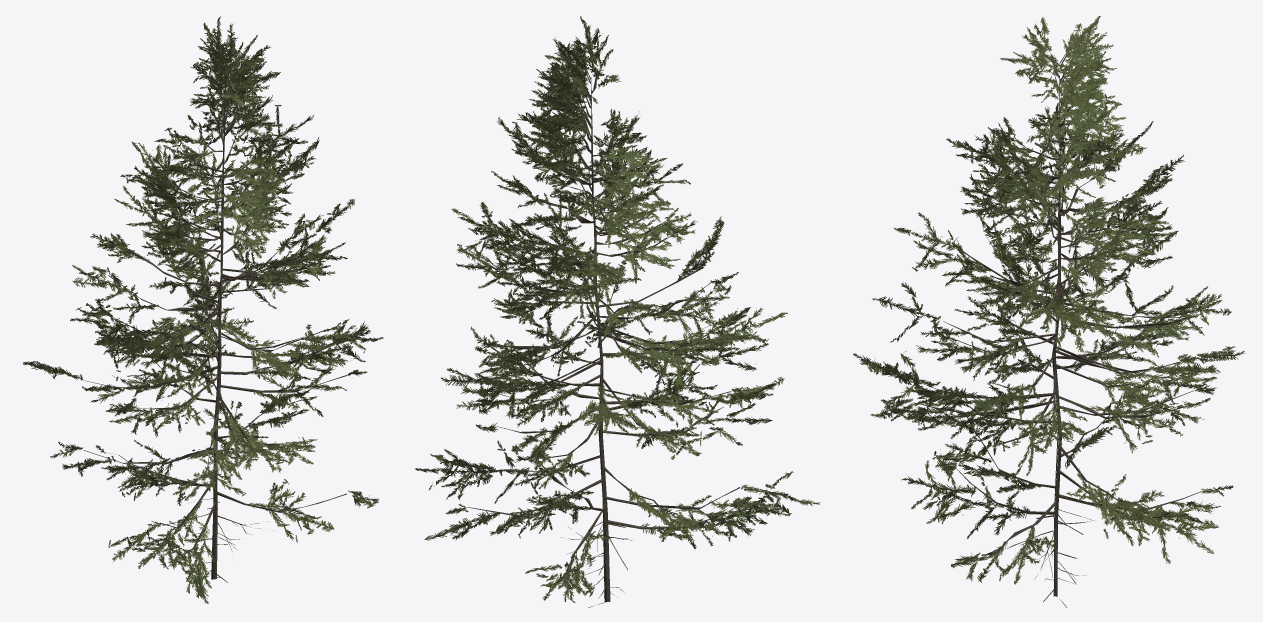
Rendered from fir-sapling-medium-a.glb.
The picture shows the model from 3 angles, left to right: view 1: azimuth 30°, elevation 25°; view 2: azimuth 150°, elevation 25°; view 3: azimuth 270°, elevation 25°; orthographic projection. The views are drawn at different scales.
Parts seen in each view (by area): view 1: fir_sapling_medium_a; view 2: fir_sapling_medium_a; view 3: fir_sapling_medium_a.
Part boxes in pixels (bbox=[...]): fir_sapling_medium_a: bbox=[23, 16, 383, 603]; fir_sapling_medium_a: bbox=[415, 16, 820, 607]; fir_sapling_medium_a: bbox=[853, 16, 1244, 607].
Size of the model in its own units: 5.07 by 8.85 by 5.34.
2 materials, 2 textured.
